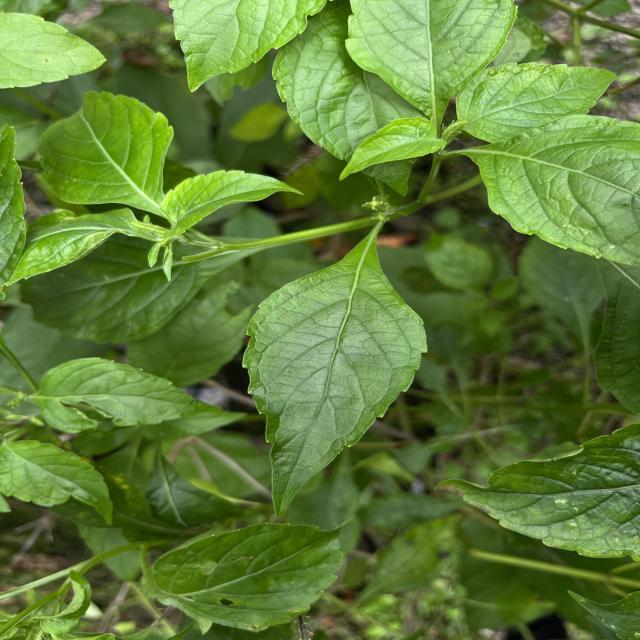Ocimum gratissimum: (238, 224, 430, 524), (433, 421, 640, 566), (460, 111, 639, 268), (342, 0, 520, 120), (30, 86, 176, 221), (448, 59, 617, 144)
